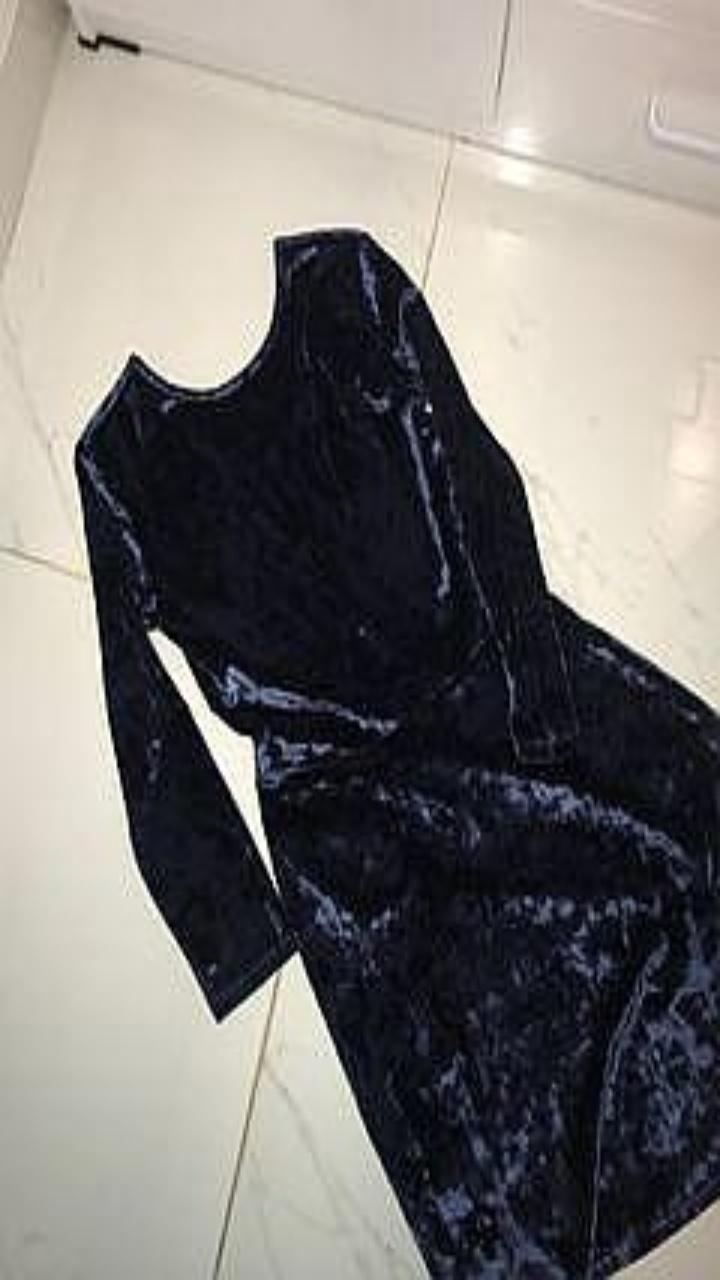Dresses: (74, 227, 719, 1279)
